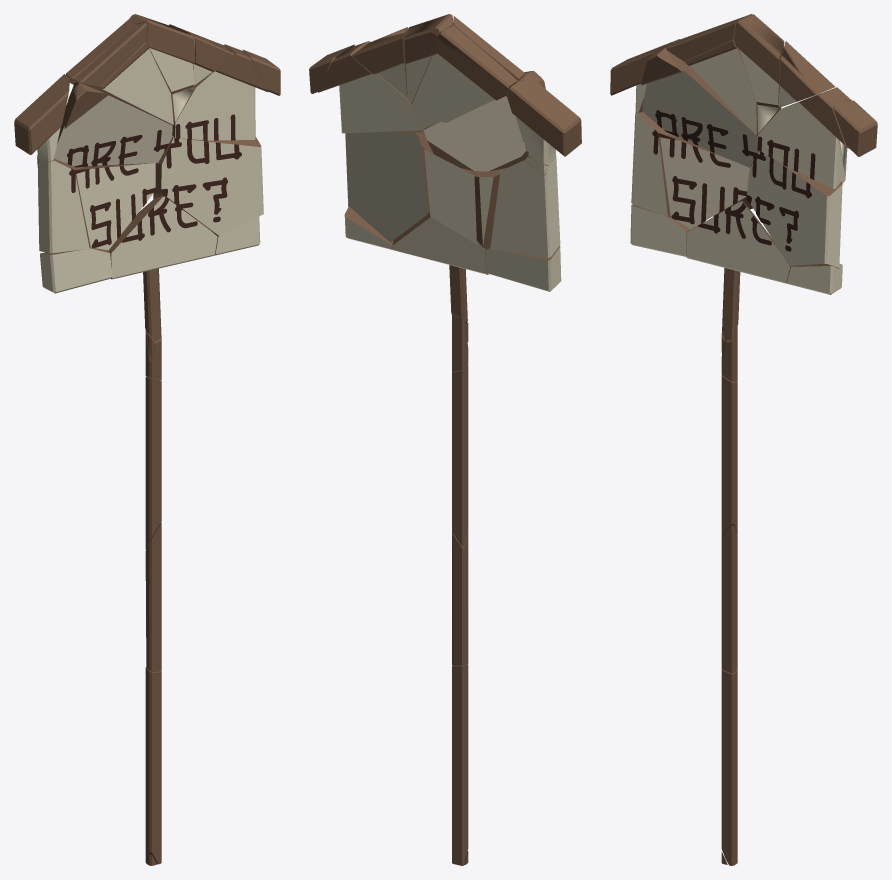
The model's file is AreYouSureSignBroken.fbx.
3 renders of one model, left to right at view 1: azimuth 30°, elevation 25°; view 2: azimuth 150°, elevation 25°; view 3: azimuth 330°, elevation 25°, orthographic. The views are drawn at different scales.
Visible parts, largest first — view 1: sign_are_you_sure.014, sign_are_you_sure.001_cell.033, sign_are_you_sure.001_cell.026, sign_are_you_sure.017, sign_are_you_sure.024, sign_are_you_sure.001_cell.034, sign_are_you_sure.001_cell.041, sign_are_you_sure.001_cell.011, sign_are_you_sure.001_cell.012, sign_are_you_sure.001_cell.003, sign_are_you_sure.001_cell.014, sign_are_you_sure.001_cell.007 (+6 smaller); view 2: sign_are_you_sure.014, sign_are_you_sure.001_cell.041, sign_are_you_sure.001_cell.034, sign_are_you_sure.001_cell.033, sign_are_you_sure.017, sign_are_you_sure.001_cell.012, sign_are_you_sure.001_cell.026, sign_are_you_sure.001_cell.011, sign_are_you_sure.001_cell.027, sign_are_you_sure.001_cell.014, sign_are_you_sure.001_cell.007, sign_are_you_sure.001_cell.021 (+7 smaller); view 3: sign_are_you_sure.014, sign_are_you_sure.001_cell.033, sign_are_you_sure.001_cell.026, sign_are_you_sure.017, sign_are_you_sure.024, sign_are_you_sure.001_cell.041, sign_are_you_sure.001_cell.011, sign_are_you_sure.001_cell.003, sign_are_you_sure.001_cell.034, sign_are_you_sure.001_cell.014, sign_are_you_sure.001_cell.021, sign_are_you_sure.001_cell.007 (+6 smaller).
Part boxes in pixels (<box>): sign_are_you_sure.014: <box>153,135,263,236</box>; sign_are_you_sure.001_cell.033: <box>54,82,172,167</box>; sign_are_you_sure.001_cell.026: <box>108,196,217,341</box>; sign_are_you_sure.017: <box>172,44,268,140</box>; sign_are_you_sure.024: <box>75,163,155,250</box>; sign_are_you_sure.001_cell.034: <box>37,158,90,253</box>; sign_are_you_sure.001_cell.041: <box>66,18,174,125</box>; sign_are_you_sure.001_cell.011: <box>145,667,161,864</box>; sign_are_you_sure.001_cell.012: <box>14,74,69,161</box>; sign_are_you_sure.001_cell.003: <box>130,14,195,96</box>; sign_are_you_sure.001_cell.014: <box>145,377,161,549</box>; sign_are_you_sure.001_cell.007: <box>40,248,112,293</box>; sign_are_you_sure.014: <box>345,130,433,242</box>; sign_are_you_sure.001_cell.041: <box>411,25,517,130</box>; sign_are_you_sure.001_cell.034: <box>489,156,560,258</box>; sign_are_you_sure.001_cell.033: <box>423,71,545,171</box>; sign_are_you_sure.017: <box>318,41,422,133</box>; sign_are_you_sure.001_cell.012: <box>507,81,581,164</box>; sign_are_you_sure.001_cell.026: <box>392,211,488,323</box>; sign_are_you_sure.001_cell.011: <box>452,664,468,865</box>; sign_are_you_sure.001_cell.027: <box>424,150,476,243</box>; sign_are_you_sure.001_cell.014: <box>452,365,468,546</box>; sign_are_you_sure.001_cell.007: <box>485,245,561,291</box>; sign_are_you_sure.001_cell.021: <box>452,528,468,665</box>; sign_are_you_sure.014: <box>746,151,842,268</box>; sign_are_you_sure.001_cell.033: <box>641,48,757,167</box>; sign_are_you_sure.001_cell.026: <box>686,200,790,340</box>; sign_are_you_sure.017: <box>757,87,851,188</box>; sign_are_you_sure.024: <box>659,133,750,228</box>; sign_are_you_sure.001_cell.041: <box>673,16,759,135</box>; sign_are_you_sure.001_cell.011: <box>721,668,737,865</box>; sign_are_you_sure.001_cell.003: <box>733,14,784,113</box>; sign_are_you_sure.001_cell.034: <box>631,112,705,222</box>; sign_are_you_sure.001_cell.014: <box>721,375,737,538</box>; sign_are_you_sure.001_cell.021: <box>721,525,737,673</box>; sign_are_you_sure.001_cell.007: <box>630,204,700,256</box>.
Size of the model in its own units: 78.69 by 248 by 15.74.
